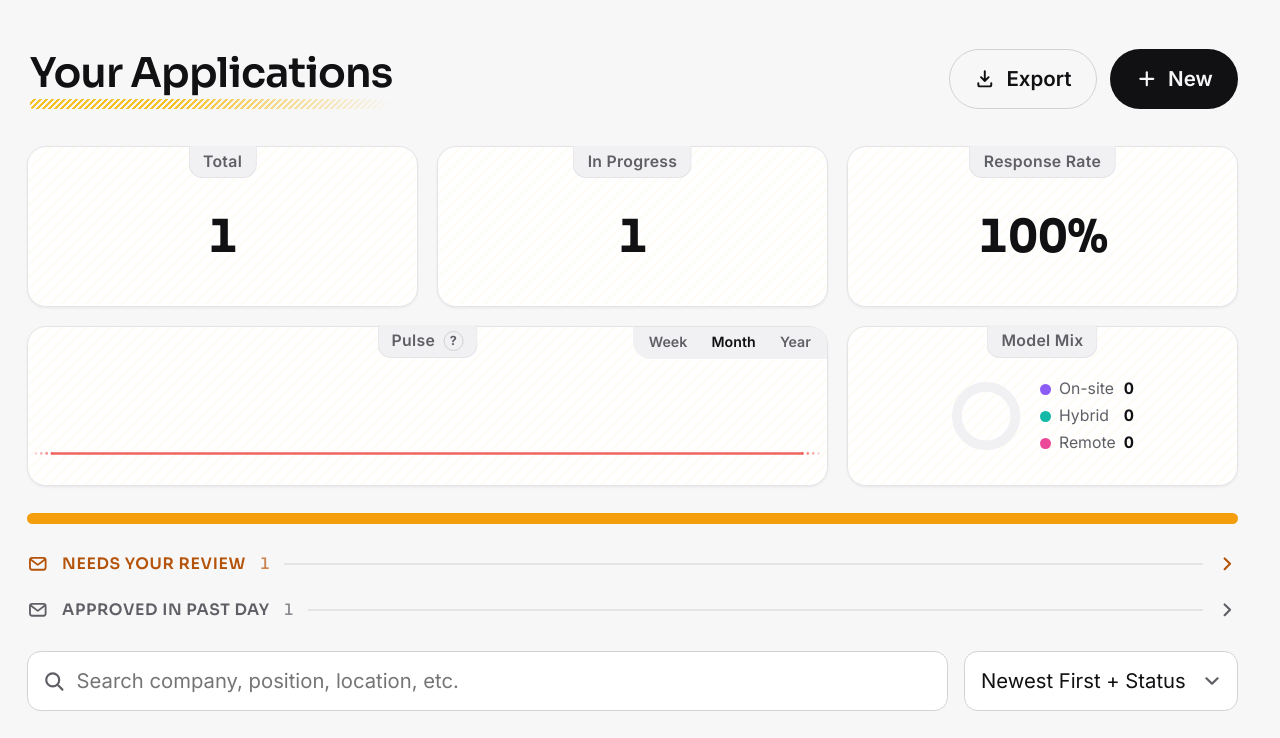
Test: Applications › names a suggestion that repeats the status as another interview, in review and in recent updates
This screenshot has width=1280, height=738.
Step 1. Click the button "Needs your review 1" → (632, 564), box [27,551,1238,578]
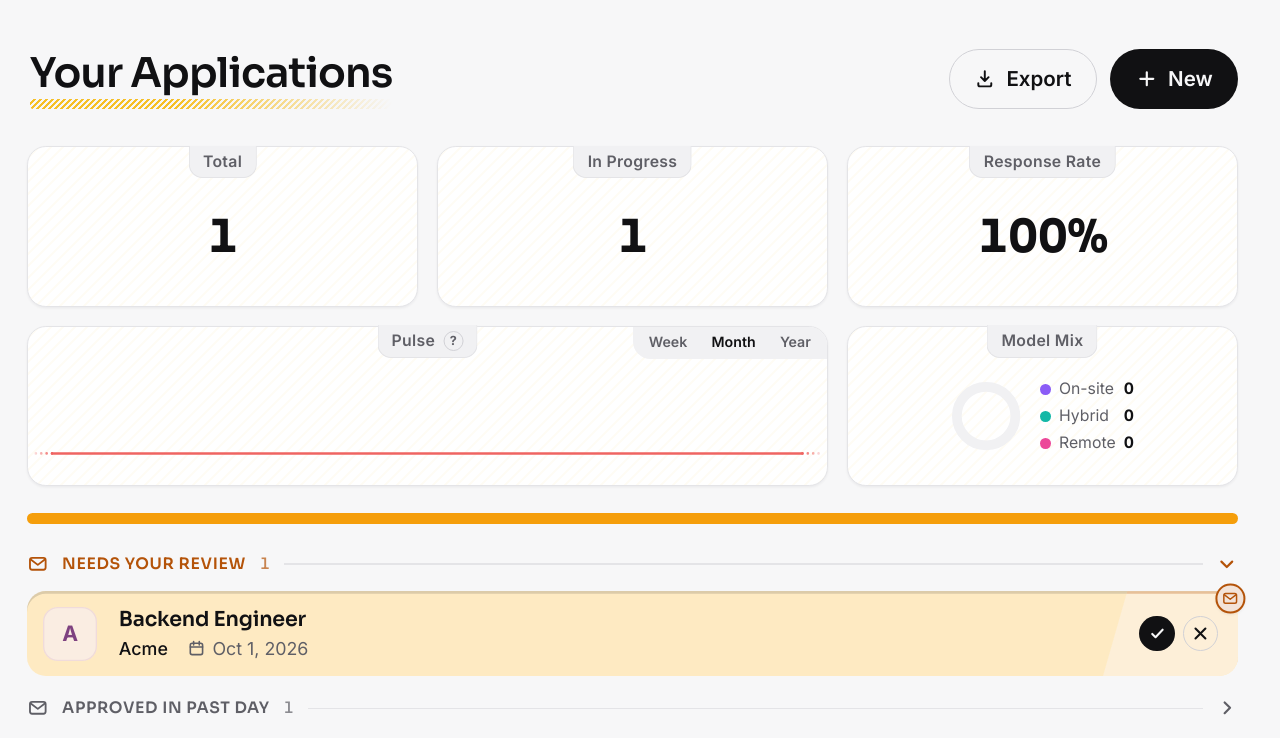
Step 2. Click the button "Approved in past day 1" → (632, 708), box [27,695,1238,722]
(page scrolled)
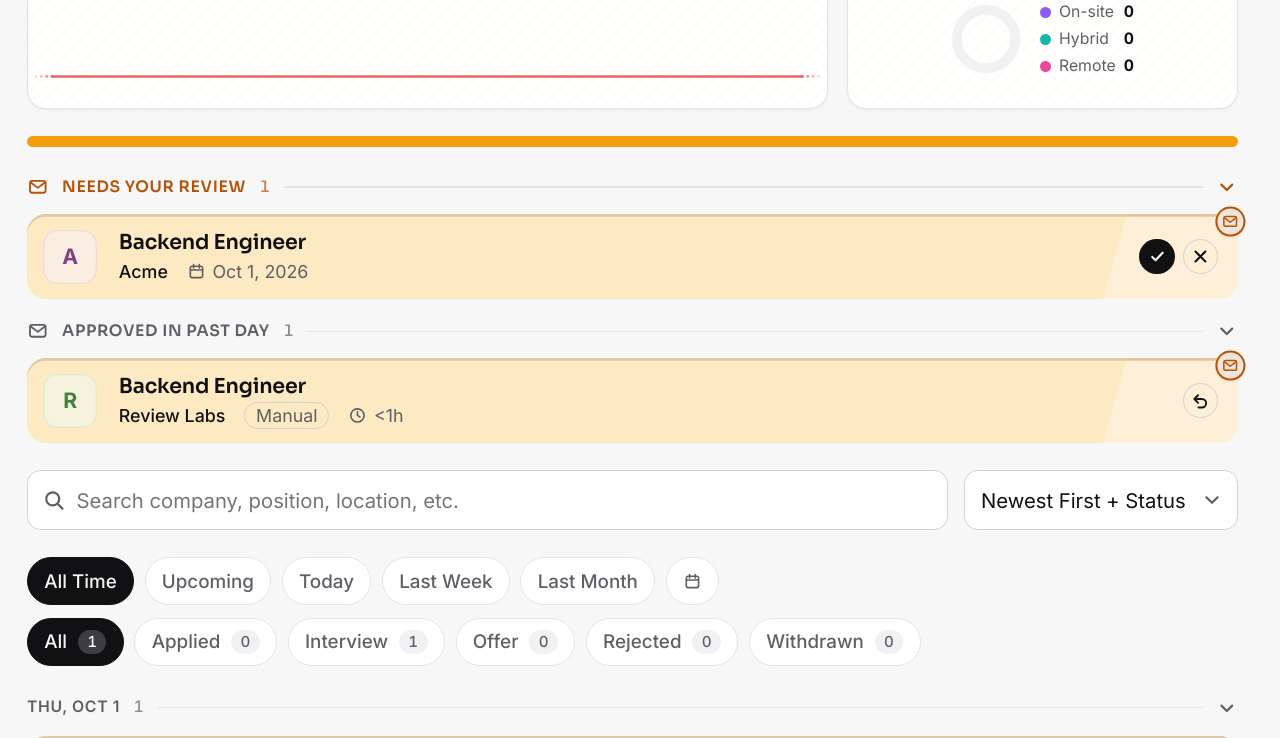
Now the element named "Another interview" is shown, box [1140,207,1246,274]
Now the element named "Another interview. Accepted by you" is shown, box [1183,351,1246,418]
